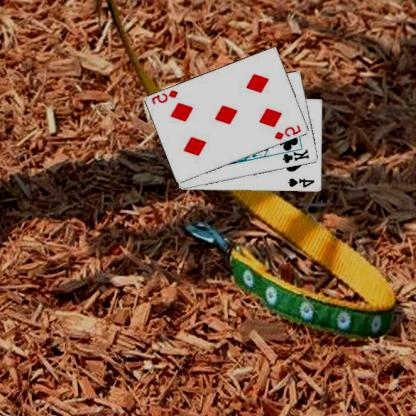4S: (288, 176, 317, 189)
5D: (151, 88, 182, 106), (274, 122, 304, 140)
KC: (278, 145, 312, 165)
